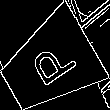P_SW: (21, 36, 78, 94)
